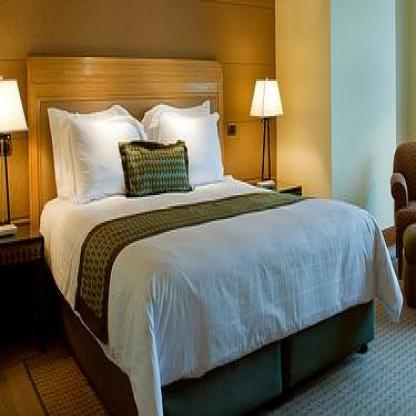Bed: (15, 48, 416, 416)
